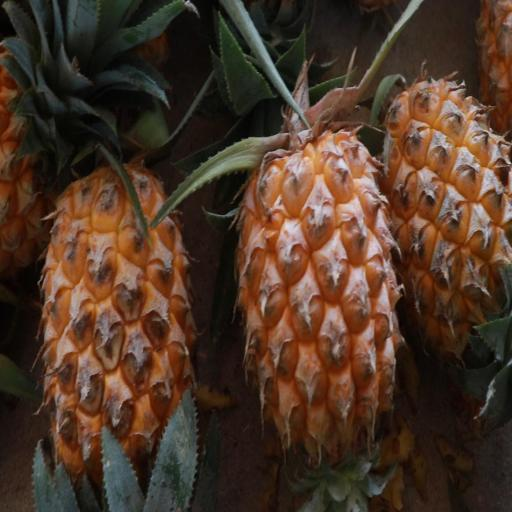Pineapple - v8 v1: (233, 111, 402, 511), (32, 122, 201, 512), (377, 56, 512, 375), (0, 0, 110, 272)
